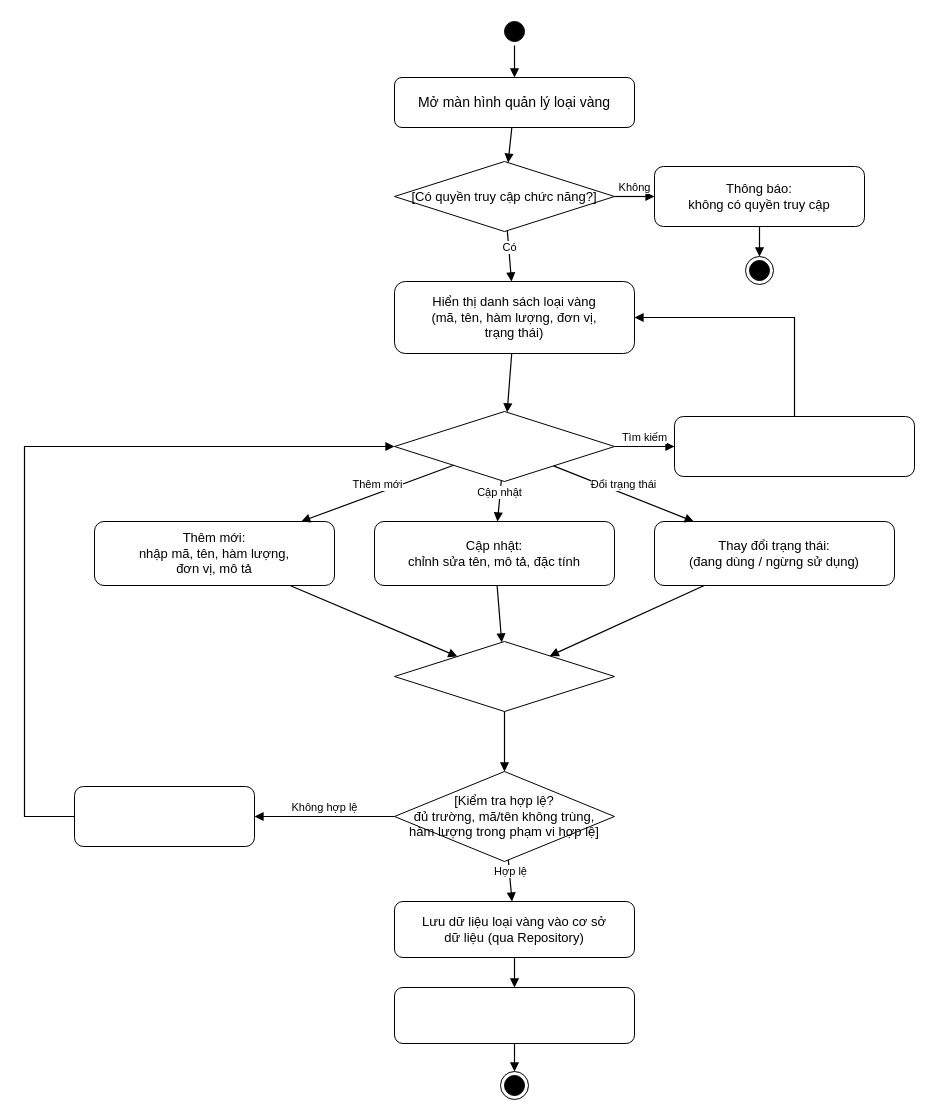
Some shapes in this 933 by 1117 pixel diagram are drawn without their labels. Here are the shapes that lost their labels. From the top down, the centre of each, then its label:
point 504,446: [Chọn thao tác]
point 794,446: Tìm kiếm / lọc loại vàng (mã, tên, hàm lượng, trạng thái)
point 164,816: Thông báo lỗi, yêu cầu nhập lại
point 514,1015: Cập nhật danh sách & thông báo kết quả
